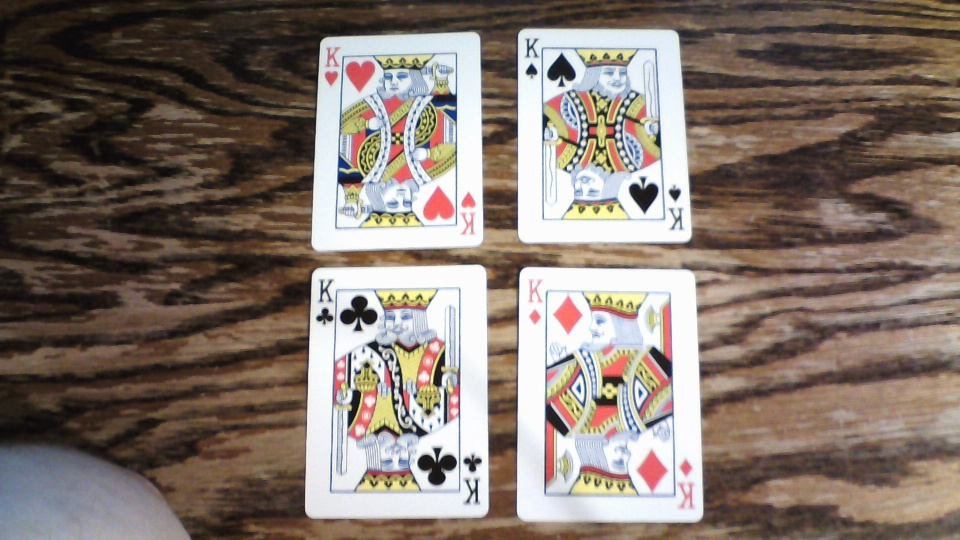king: (515, 267, 704, 523), (305, 263, 489, 519), (514, 24, 694, 245), (312, 30, 485, 249)
